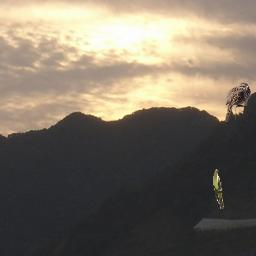Cuckoo: (213, 169, 224, 209)
Sparrow: (225, 82, 251, 122)
